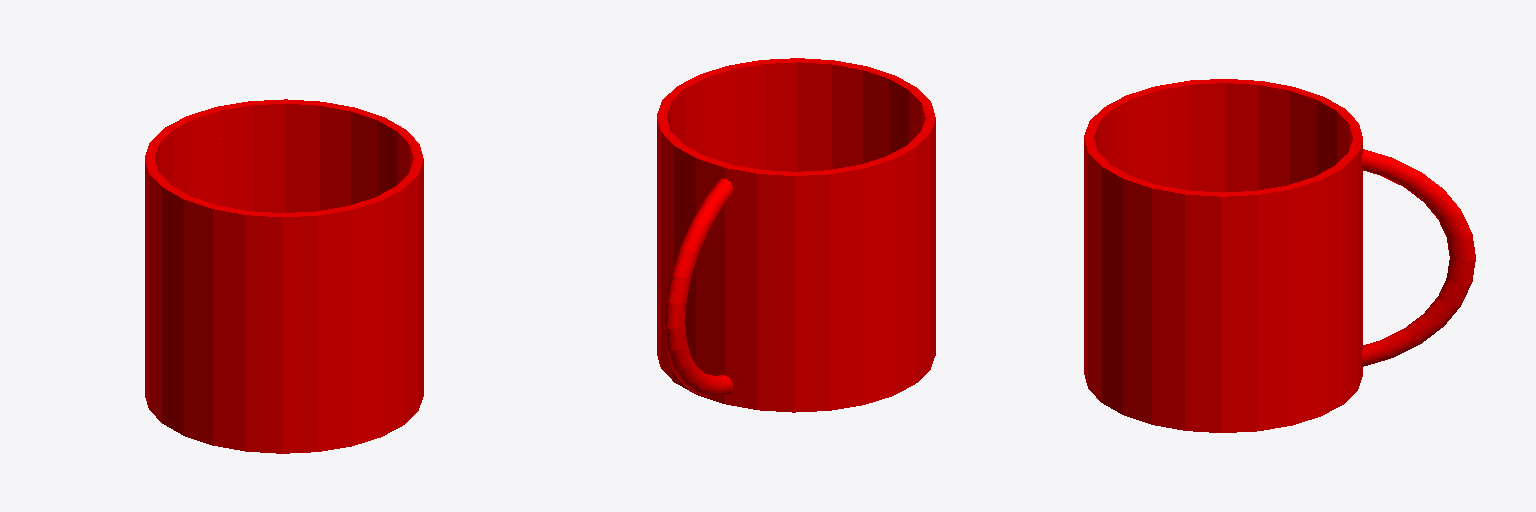
3 views of the same model, side by side, from view 1: azimuth 30°, elevation 25°; view 2: azimuth 150°, elevation 25°; view 3: azimuth 270°, elevation 25° (orthographic).
Parts seen in each view (by area): view 1: model_normalized.008; view 2: model_normalized.008; view 3: model_normalized.008.
Part boxes in pixels (left/top/right/bottom): model_normalized.008: left=145, top=99, right=423, bottom=453; model_normalized.008: left=657, top=58, right=935, bottom=412; model_normalized.008: left=1084, top=79, right=1475, bottom=432.
Size of the model in its own units: 0.5101 by 0.4764 by 0.7161.